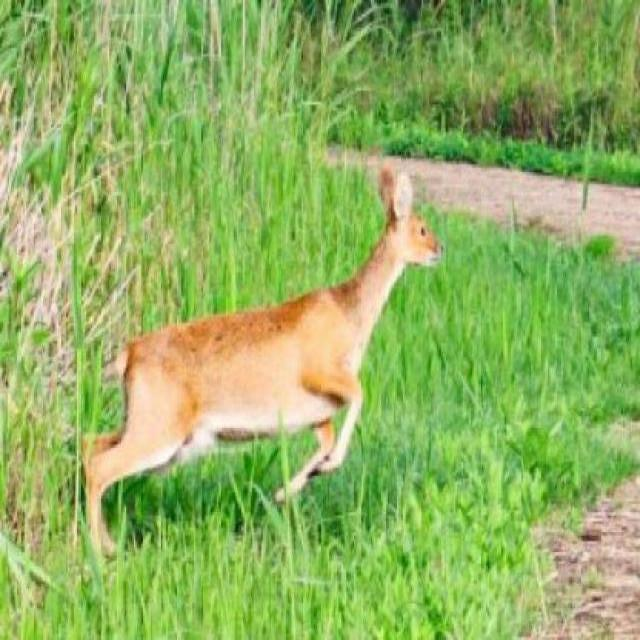deer: (64, 158, 447, 557)
